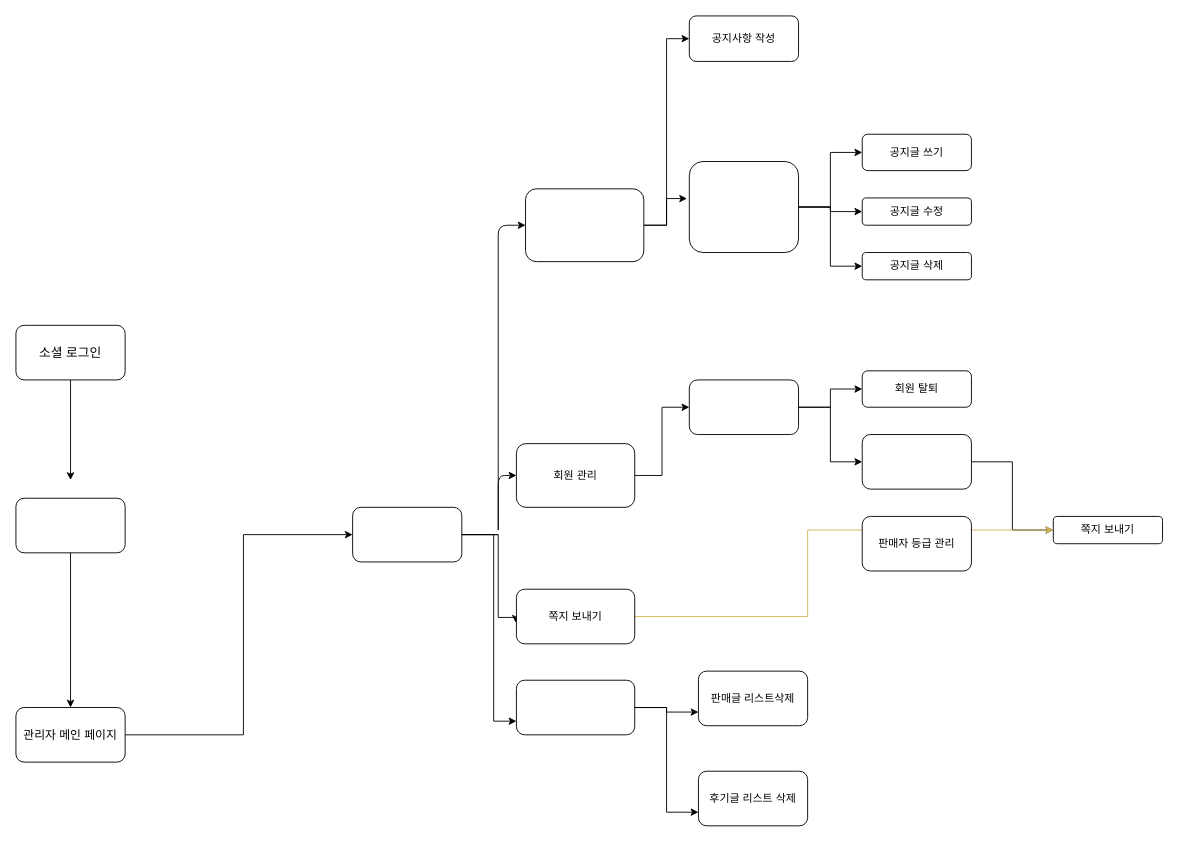
This 1178x842 diagram has some shape labels left out. The shapes that lost their labels are listed below. From the top down, each one's centre as x and y in pixels, then its label:
the point at 584,225: 공지사항
the point at 743,207: 공지사항 목록
the point at 743,407: 판매자/구매자
the point at 70,525: 로그인
the point at 407,534: 마이페이지
the point at 575,707: 삭제 탭
